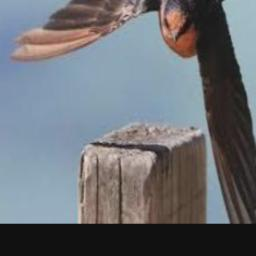Swallow: (11, 0, 256, 224)
